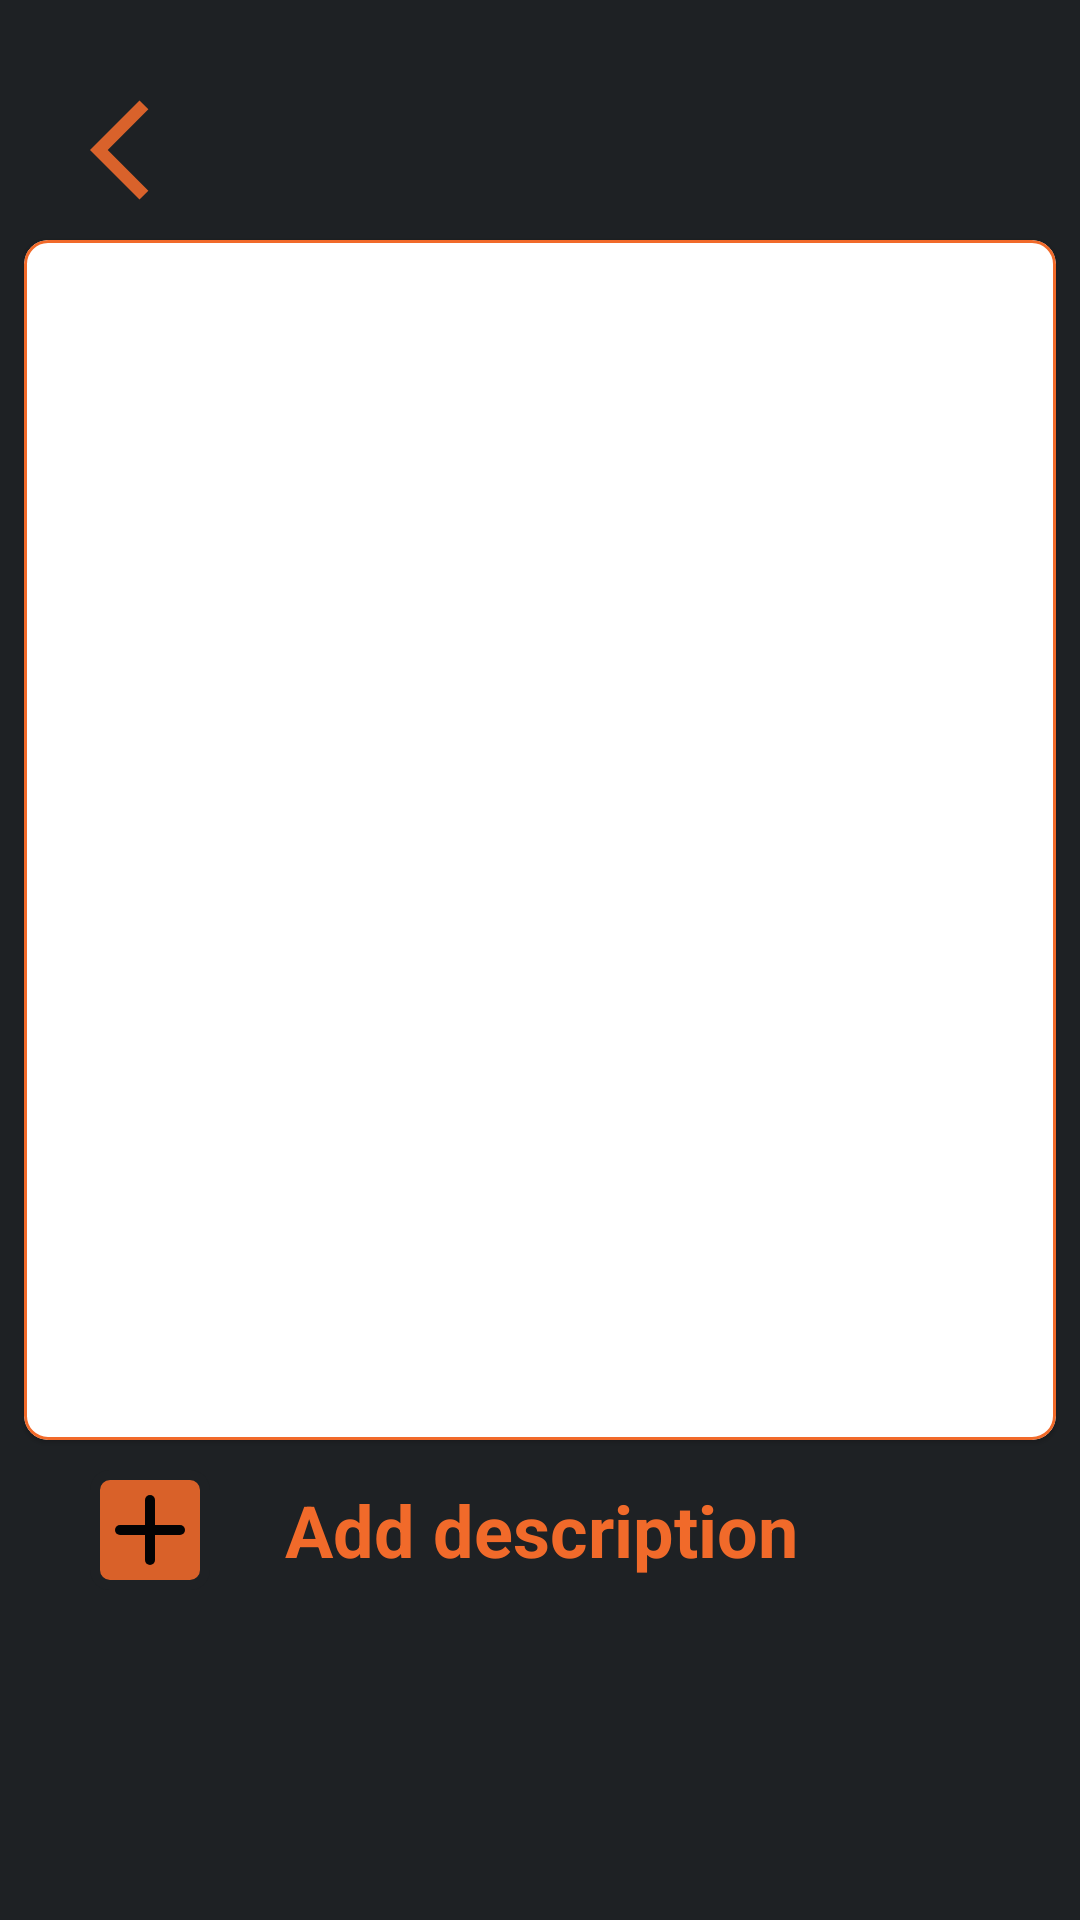

Point at icon controls on the screen. Image size 1080px×1920px, points as point (x, y).
back: point (119, 150)
